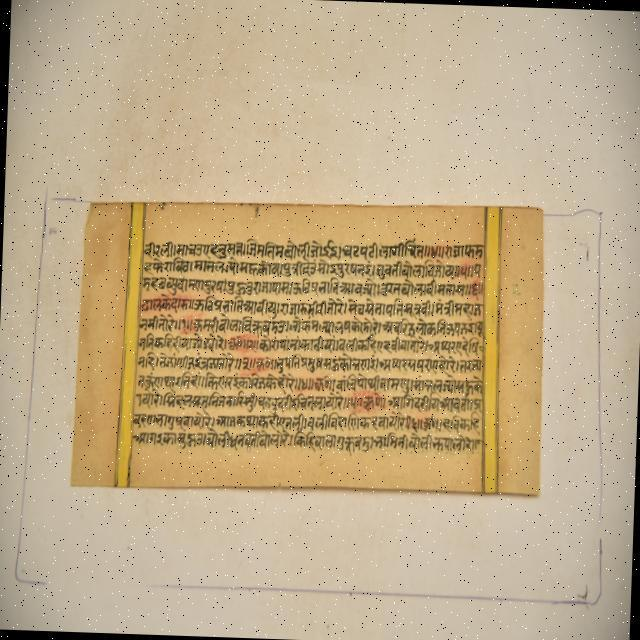text_paragraph: (73, 203, 541, 493)
